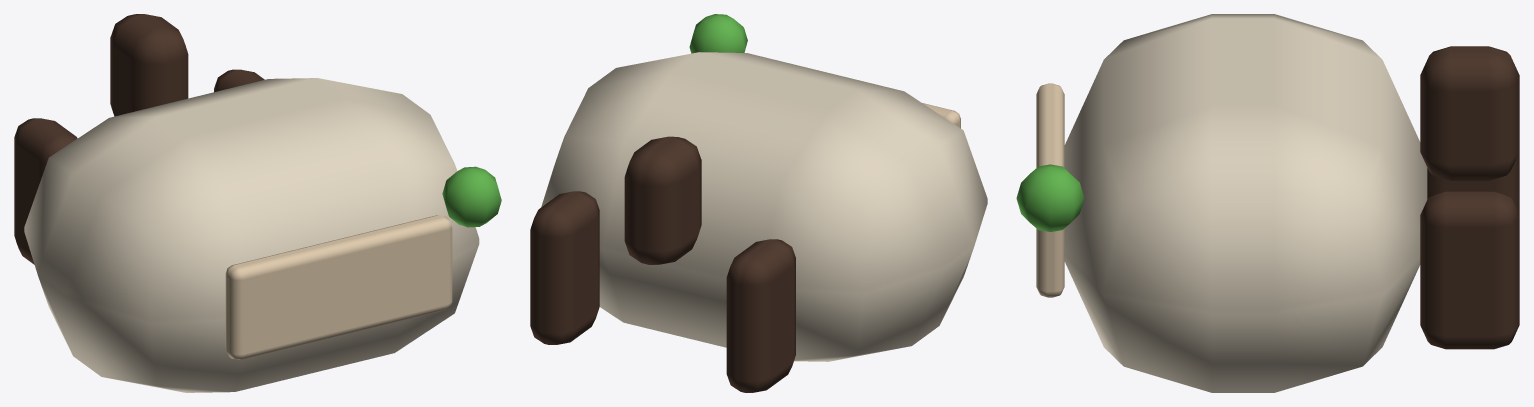
File: adapter_plug.glb
3 views of the same model, side by side, from view 1: azimuth 30°, elevation 25°; view 2: azimuth 150°, elevation 25°; view 3: azimuth 270°, elevation 25° (orthographic). The views are drawn at different scales.
Parts seen in each view (by area): view 1: Body.002, Socket, PinTop, Pin-0.045, Led, Pin0.045; view 2: Body.002, Pin-0.045, Pin0.045, PinTop, Led; view 3: Body.002, Pin0.045, PinTop, Socket, Led, Pin-0.045.
Part boxes in pixels (left/top/right/bottom): Body.002: left=24, top=78, right=479, bottom=392; Socket: left=225, top=215, right=452, bottom=359; PinTop: left=110, top=14, right=188, bottom=116; Pin-0.045: left=14, top=118, right=77, bottom=264; Led: left=442, top=166, right=501, bottom=227; Pin0.045: left=214, top=69, right=264, bottom=92; Body.002: left=541, top=52, right=987, bottom=361; Pin-0.045: left=726, top=239, right=795, bottom=392; Pin0.045: left=530, top=191, right=599, bottom=344; PinTop: left=624, top=136, right=701, bottom=264; Led: left=689, top=14, right=747, bottom=53; Body.002: left=1064, top=14, right=1427, bottom=392; Pin0.045: left=1420, top=191, right=1519, bottom=349; PinTop: left=1420, top=46, right=1519, bottom=180; Socket: left=1036, top=83, right=1064, bottom=297; Led: left=1016, top=164, right=1084, bottom=231; Pin-0.045: left=1427, top=152, right=1519, bottom=214.
Bounding box in the file's own units: 0.18 × 0.115 × 0.1775.
